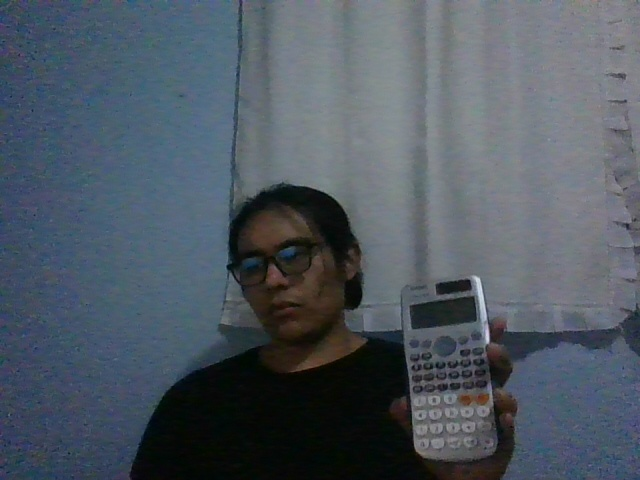calculadora: (401, 274, 499, 463)
